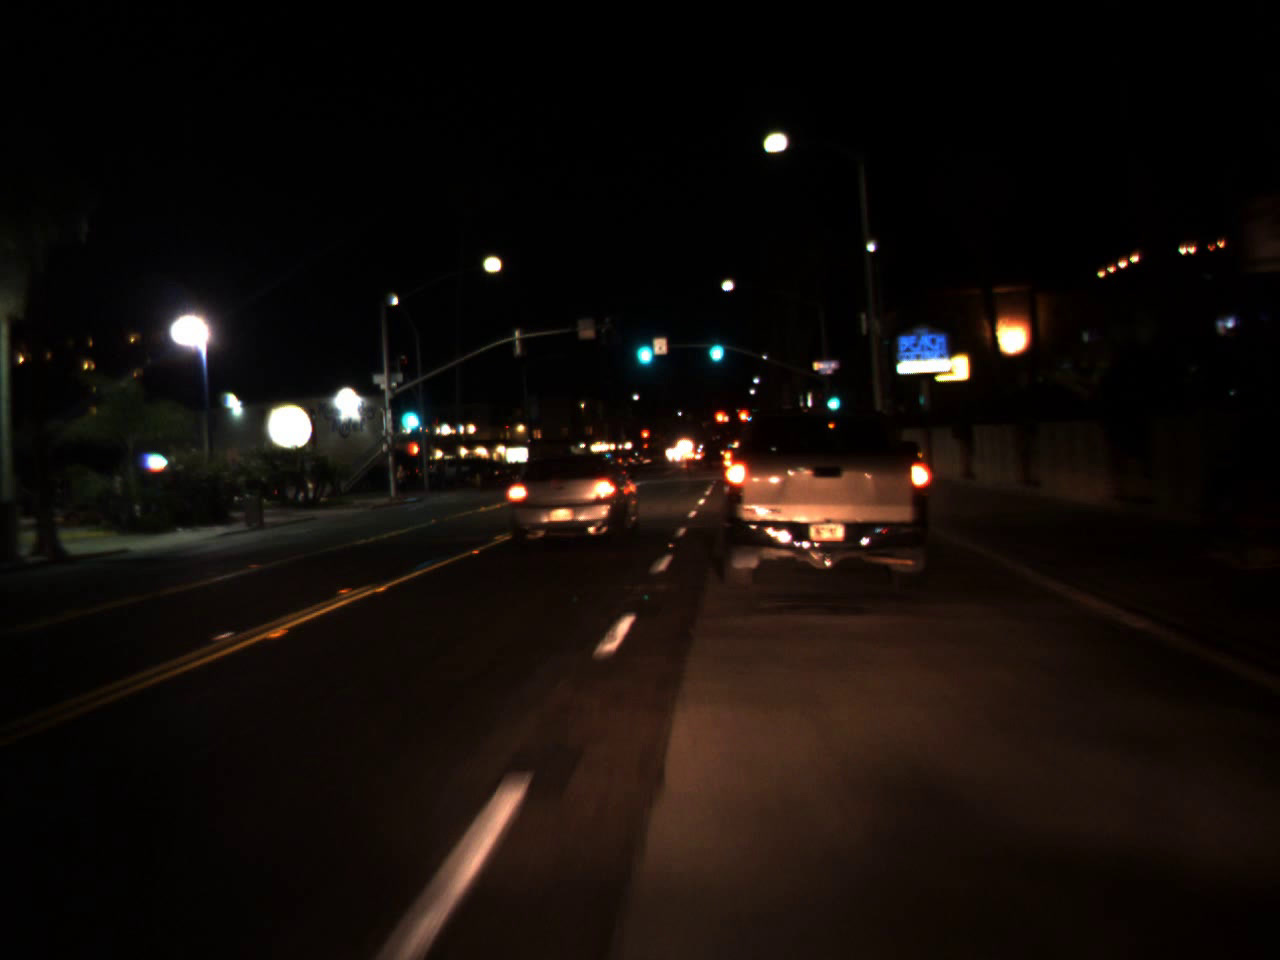go: (631, 323, 656, 371), (394, 393, 422, 432), (703, 329, 726, 362), (822, 381, 841, 414)
